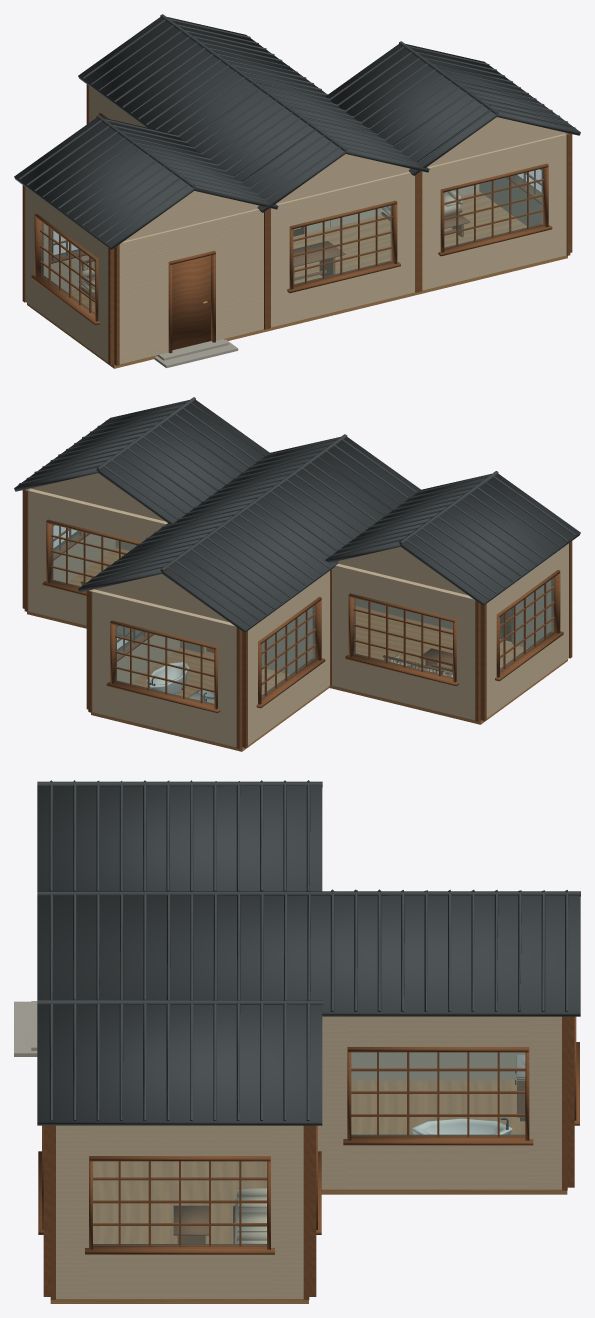
The model's file is bld-minka-lod-9dae339f0ab5.glb.
3 renders of one model, top to bottom at view 1: azimuth 30°, elevation 25°; view 2: azimuth 150°, elevation 25°; view 3: azimuth 270°, elevation 25°, orthographic. The views are drawn at different scales.
Parts seen in each view (by area): view 1: surface_graphite, surface_linen, surface_walnut, surface_Optical_smoke, surface_oak, surface_stone; view 2: surface_graphite, surface_linen, surface_walnut, surface_Optical_smoke, surface_oak, surface_porcelain; view 3: surface_graphite, surface_linen, surface_Optical_smoke, surface_walnut, surface_oak, surface_stone, surface_porcelain.
Part boxes in pixels (box(x1,y1,x2,y2)): surface_graphite: box(14, 14, 580, 249); surface_linen: box(26, 86, 567, 364); surface_walnut: box(22, 84, 572, 365); surface_Optical_smoke: box(41, 168, 542, 314); surface_oak: box(27, 191, 567, 368); surface_stone: box(154, 339, 238, 368); surface_graphite: box(14, 397, 580, 632); surface_linen: box(26, 473, 568, 747); surface_walnut: box(22, 489, 572, 748); surface_Optical_smoke: box(52, 524, 553, 705); surface_oak: box(27, 547, 567, 751); surface_porcelain: box(146, 662, 189, 694); surface_graphite: box(37, 780, 580, 1125); surface_linen: box(56, 1016, 561, 1298); surface_Optical_smoke: box(93, 1052, 524, 1245); surface_walnut: box(38, 1016, 579, 1299); surface_oak: box(50, 1080, 567, 1303); surface_stone: box(14, 1001, 525, 1080); surface_porcelain: box(412, 1118, 511, 1134).
Size of the model in its own units: 12.45 by 4.25 by 8.78.
11 materials, 4 textured.
